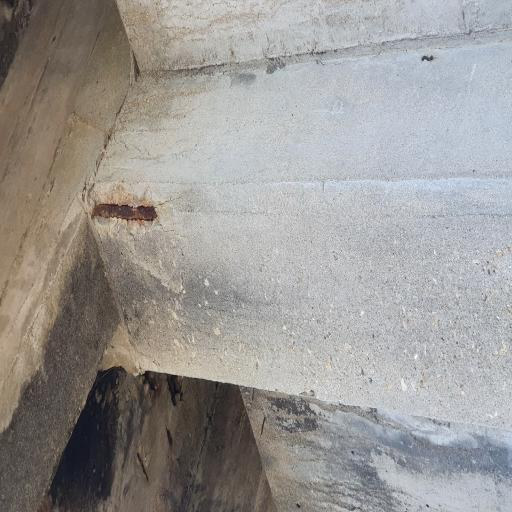exposed_rebar: (91, 204, 157, 220), (421, 55, 435, 62)
